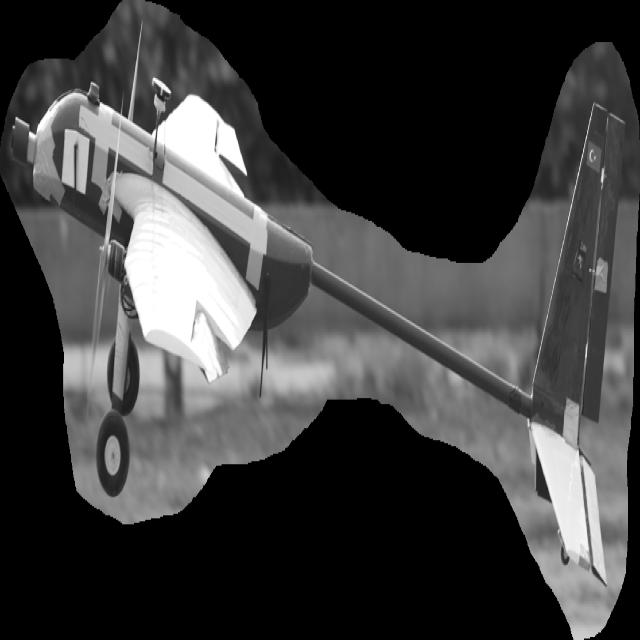iha: (1, 3, 624, 577)
